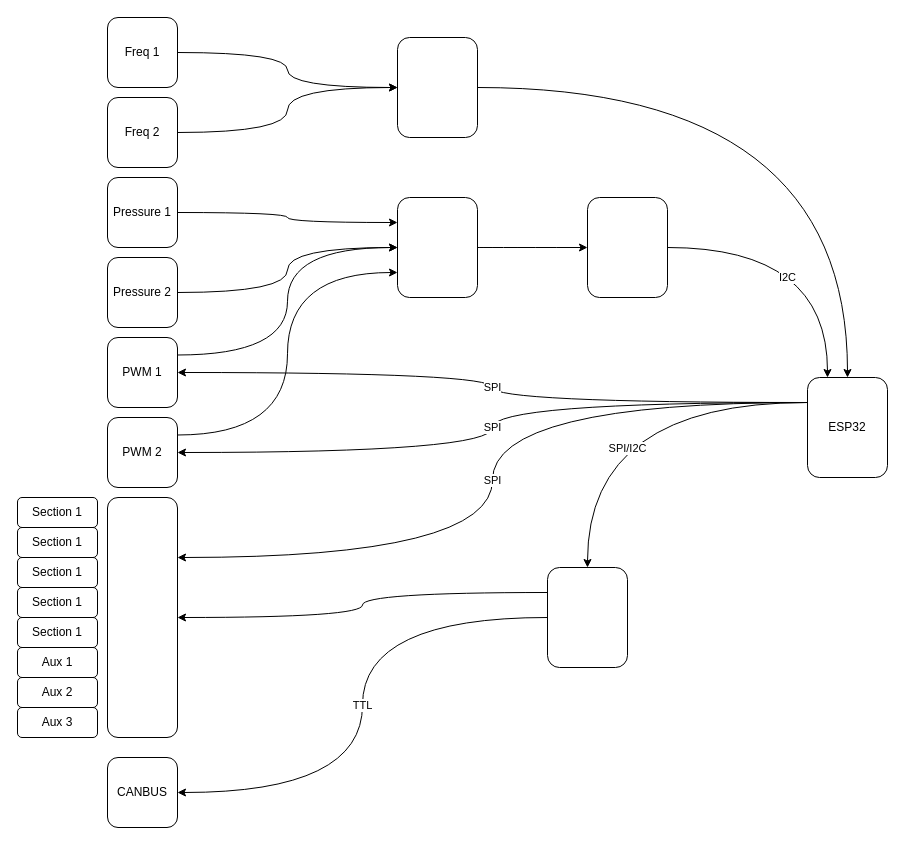
This 905x845 diagram has some shape labels left out. Here are the shapes that lost their labels. From the top down, the centre of each, then its label:
At pixel 437 87: "Coupler".
At pixel 437 247: "ads1115".
At pixel 627 247: "Logic Level Shifter".
At pixel 142 617: "Digital Outputs".
At pixel 587 617: "MCP".
